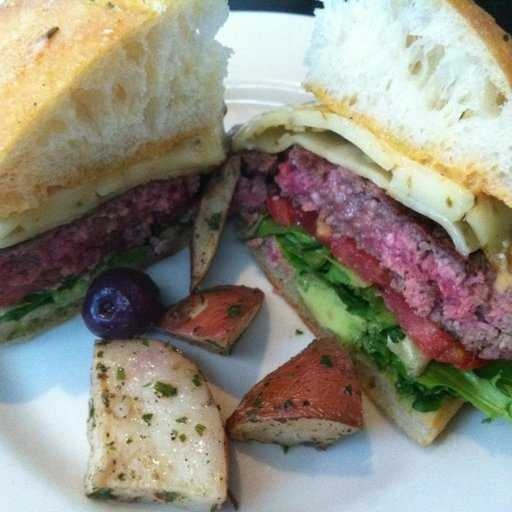hamburger: (214, 6, 505, 389)
